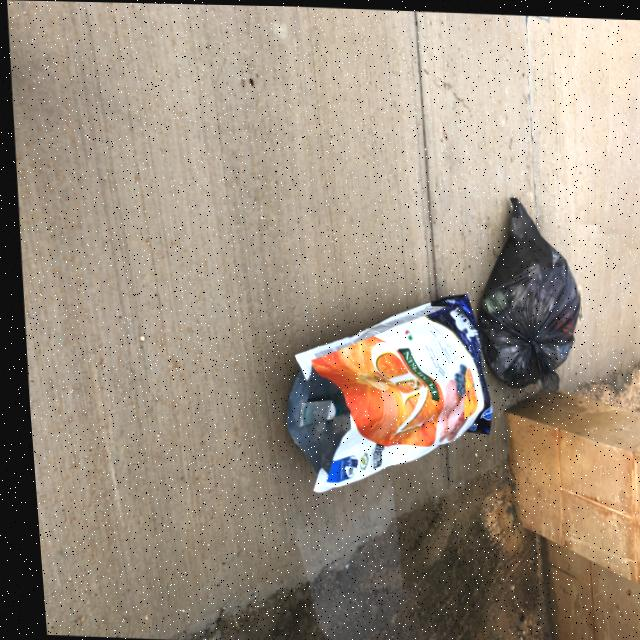Mixed Waste -Black Bag-: (466, 206, 581, 388)
Other: (272, 288, 494, 506)
